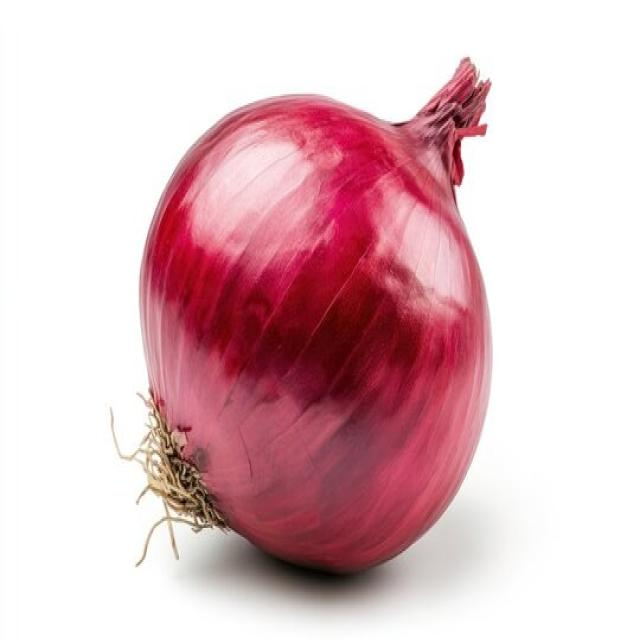Onion: (109, 55, 493, 576)
